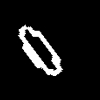chain: (18, 25, 62, 75)
